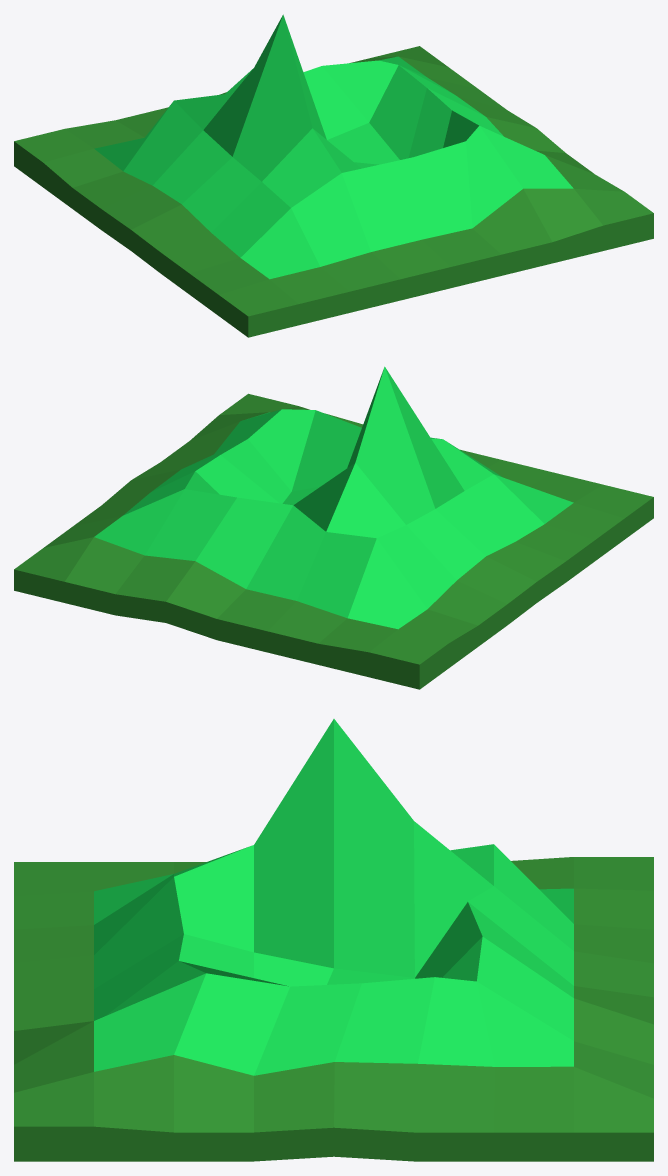
The model's file is Mountain_T1.fbx.
3 renders of one model, top to bottom at view 1: azimuth 30°, elevation 25°; view 2: azimuth 150°, elevation 25°; view 3: azimuth 270°, elevation 25°, orthographic. The views are drawn at different scales.
Parts seen in each view (by area): view 1: Mountain_T1; view 2: Mountain_T1; view 3: Mountain_T1.
Part boxes in pixels (x1,y1,x2,y2): Mountain_T1: [14, 14, 653, 337]; Mountain_T1: [14, 366, 653, 689]; Mountain_T1: [14, 719, 653, 1161].
Size of the model in its own units: 200 by 94.48 by 200.
